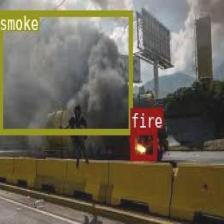fire: (130, 128, 156, 160)
smoke: (0, 9, 131, 134)
